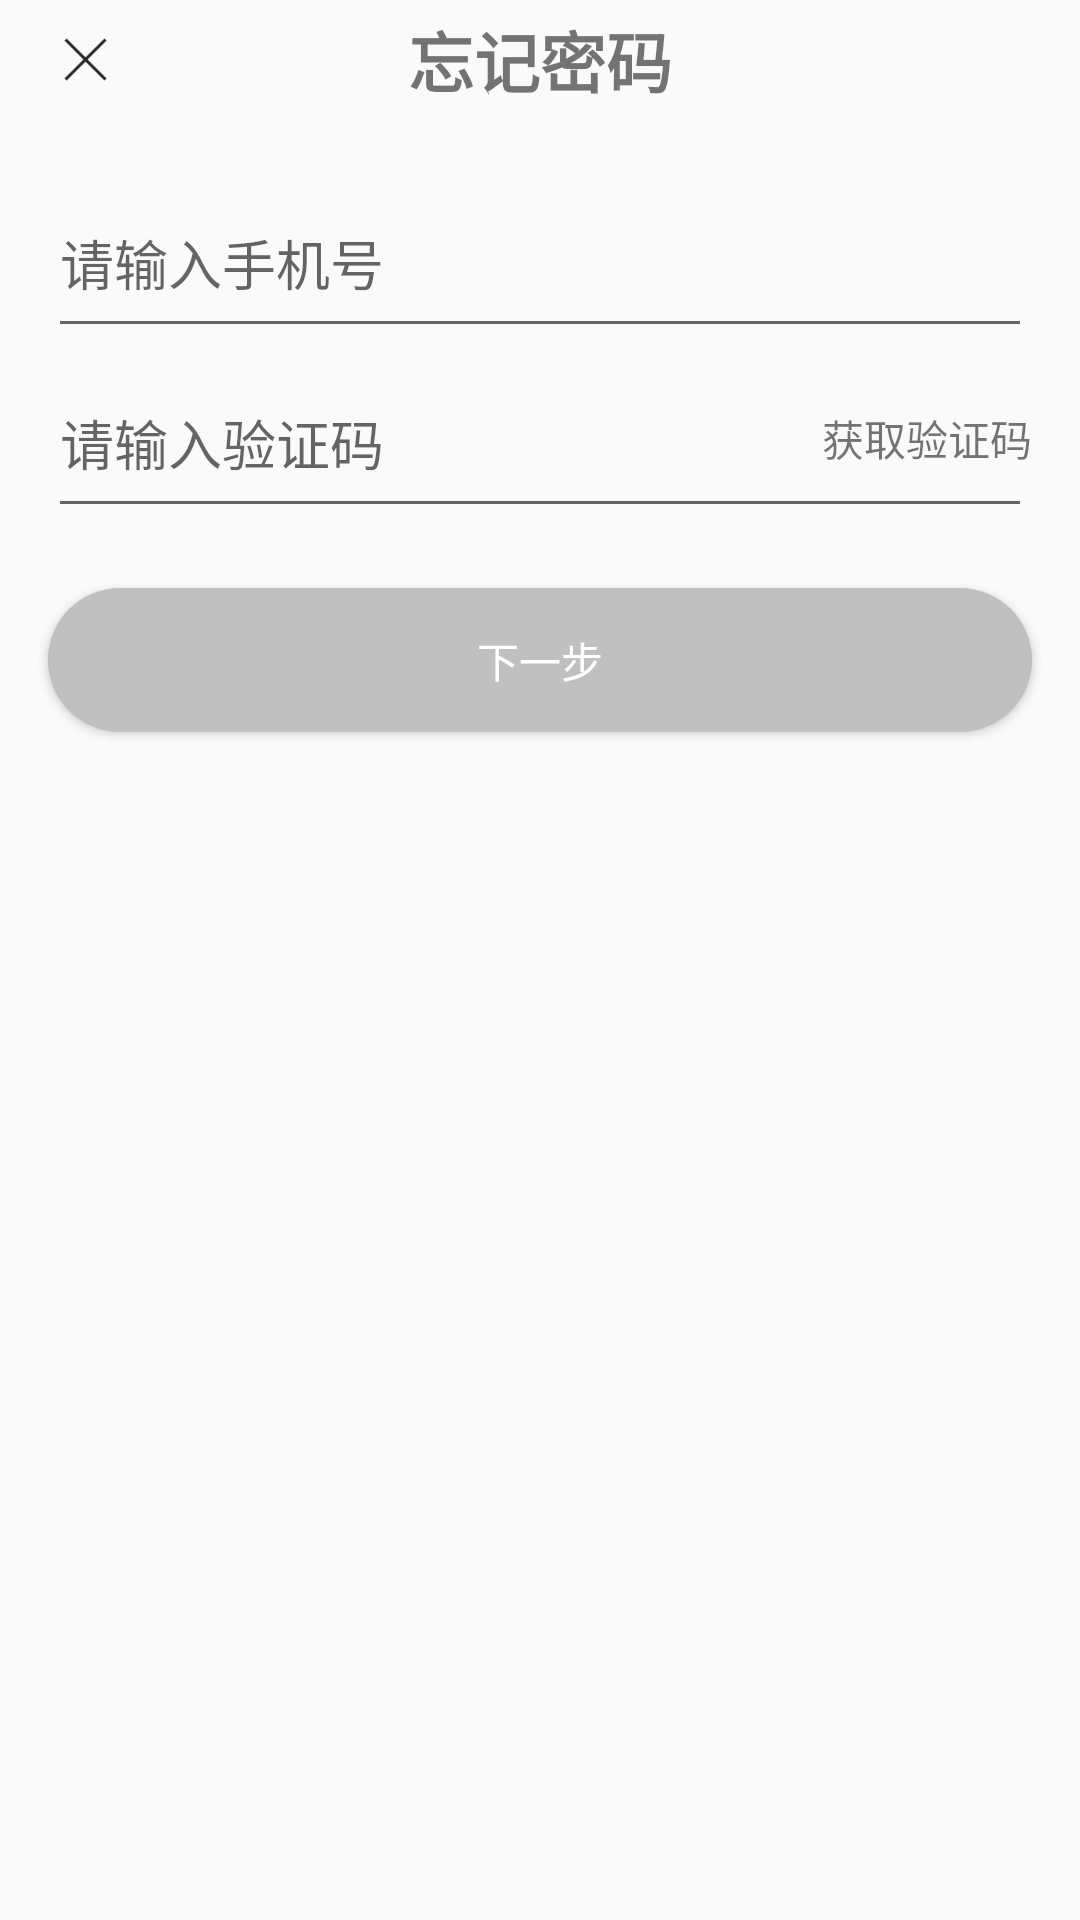

Icons on this 1080 x 1920 Android screen, each with the point to tap as (x,y):
close: (85,59)
